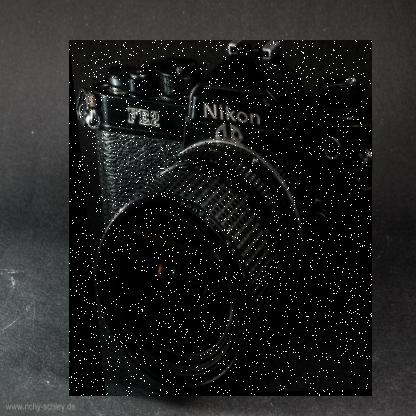Camera: (70, 41, 374, 398)
